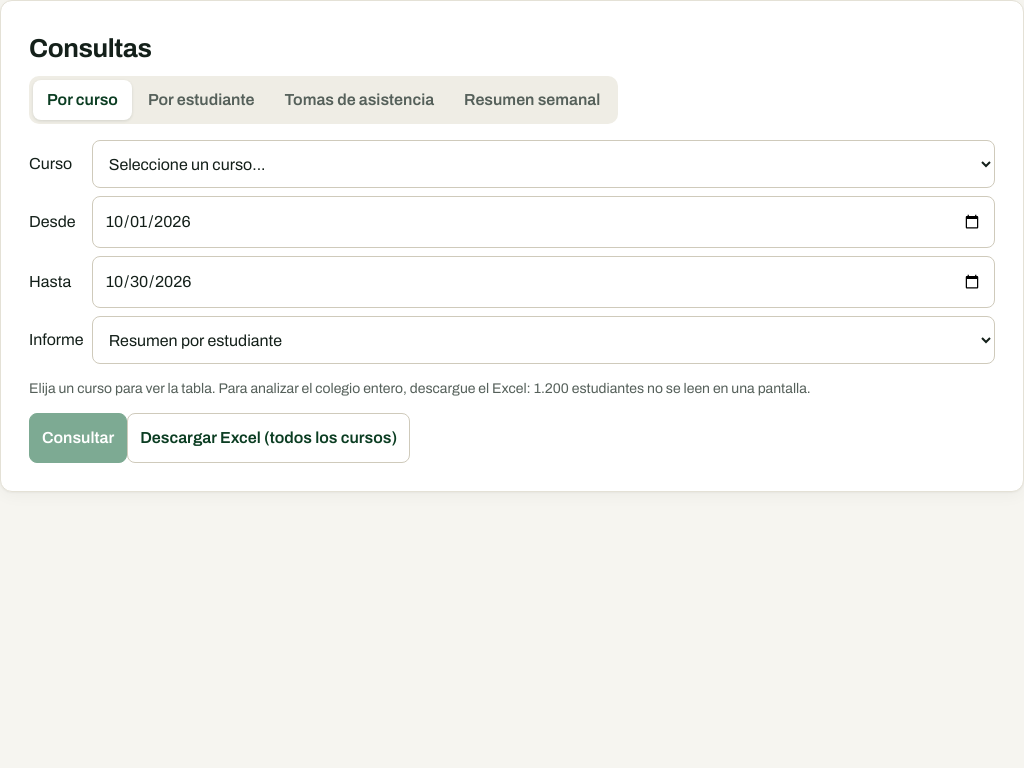
Scenario: Consultas › tomas de asistencia: lista quien tomo cada lista y resalta cuando no fue el titular
The width and height of the screenshot is (1024, 768).
Click the button "Tomas de asistencia": (359, 100) [270,80,448,120]
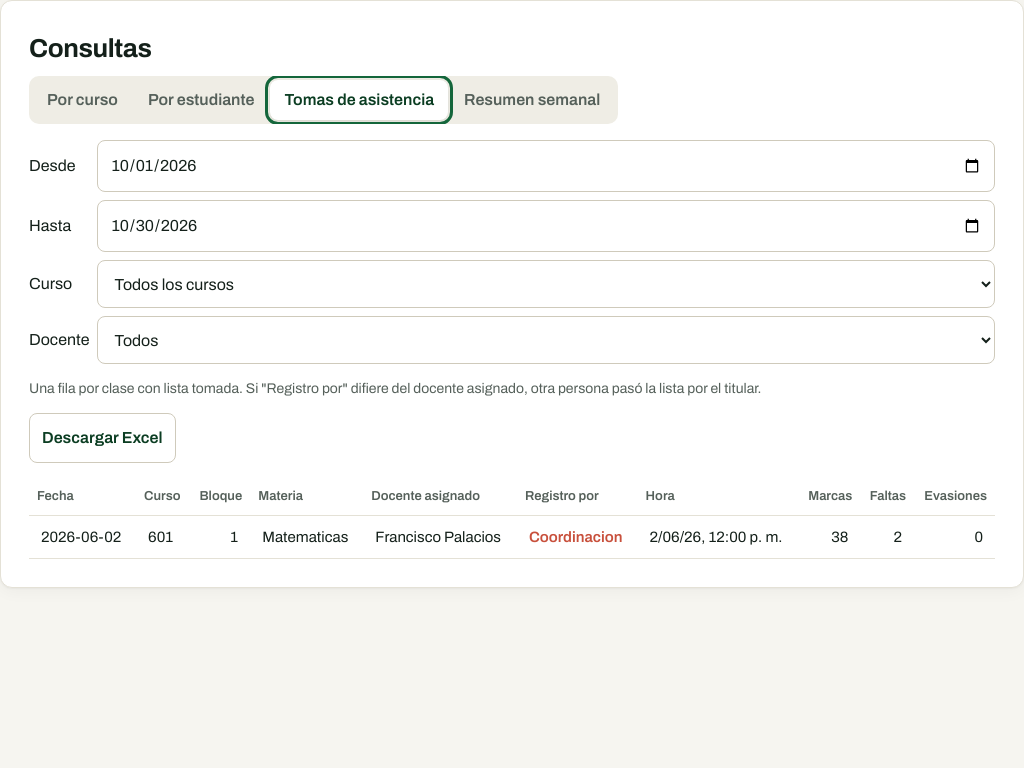
Check: the text "Matematicas" is shown, box [250,515,363,558]
